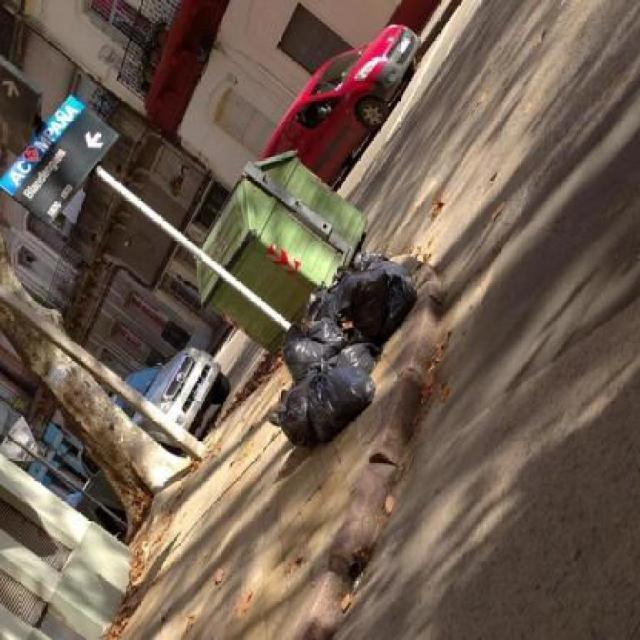garbage: (252, 245, 423, 458)
